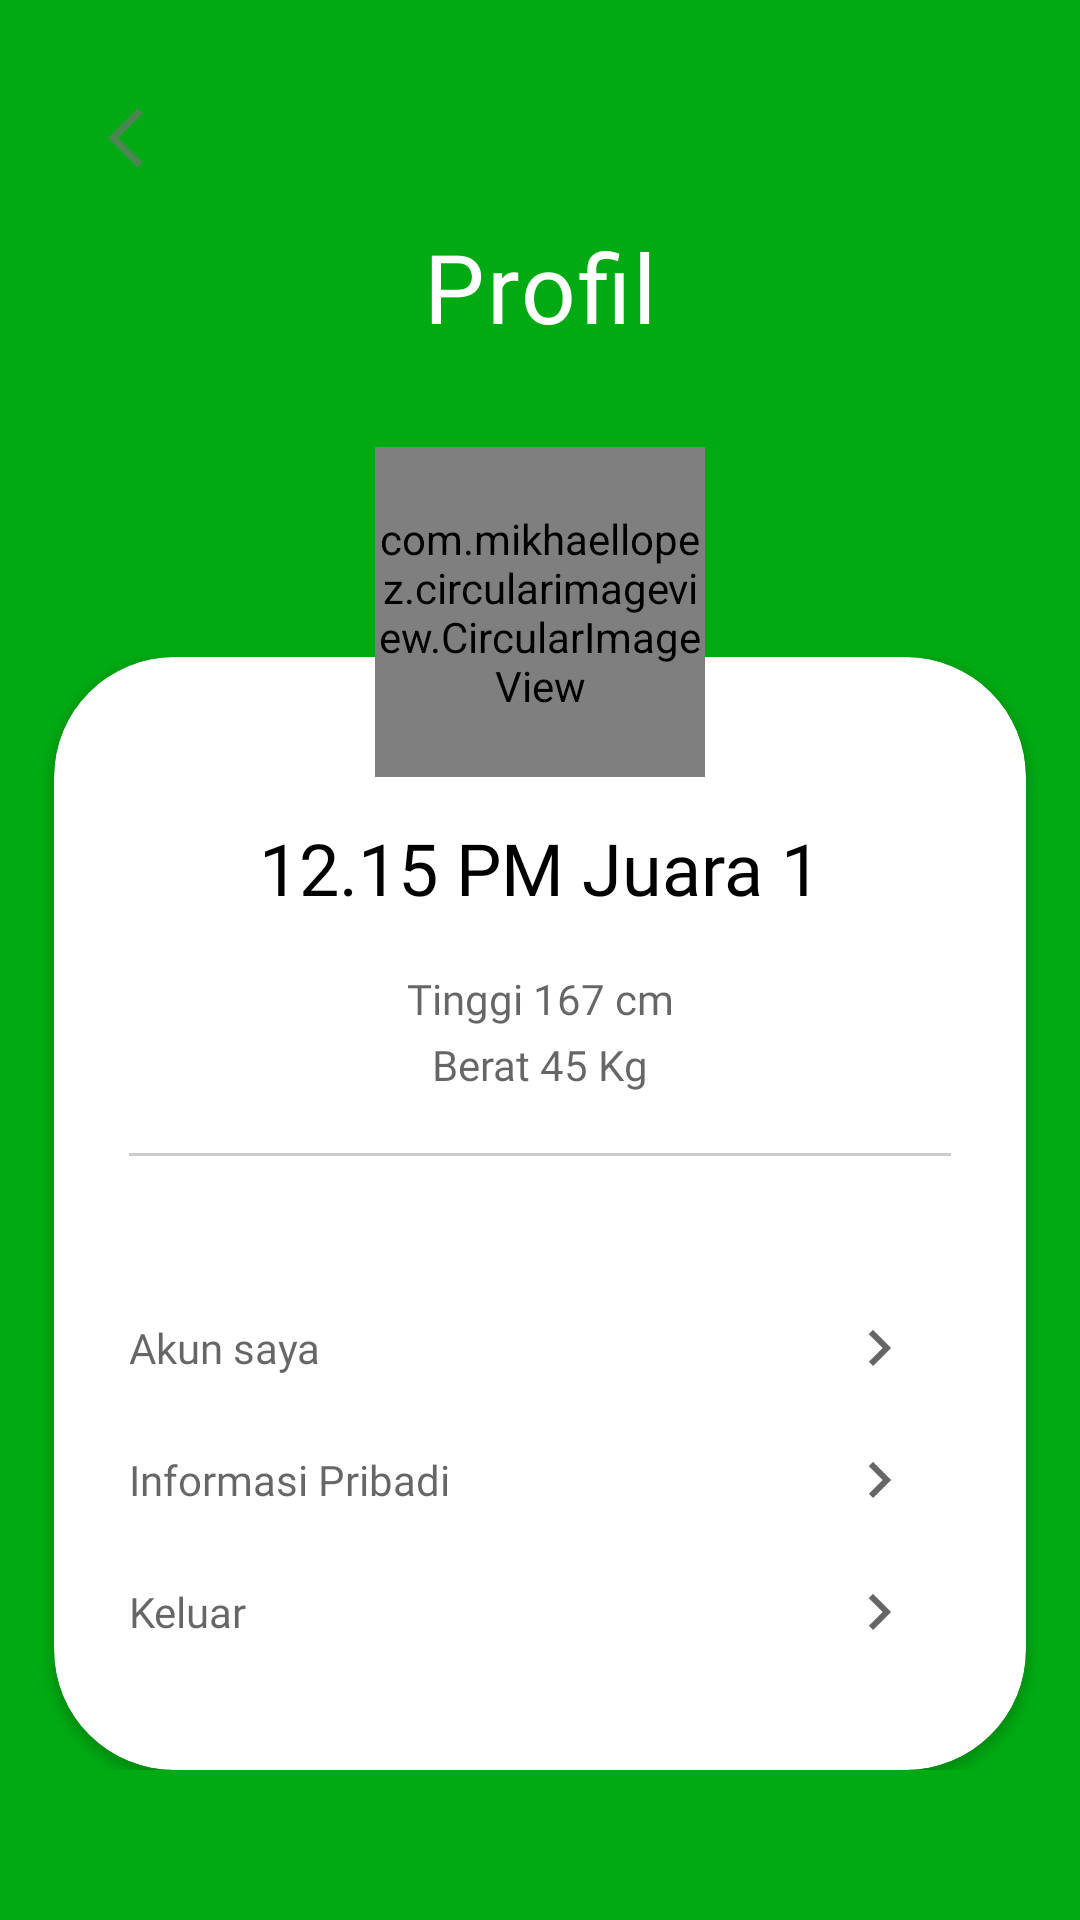

Named icons in this screenshot (1080x1920) and their bounding boxes, (x1, y1, x2, y2):
back: (108, 108, 143, 168)
keyboard arrow right: (869, 1330, 891, 1366), (869, 1462, 891, 1498), (869, 1594, 891, 1630)
